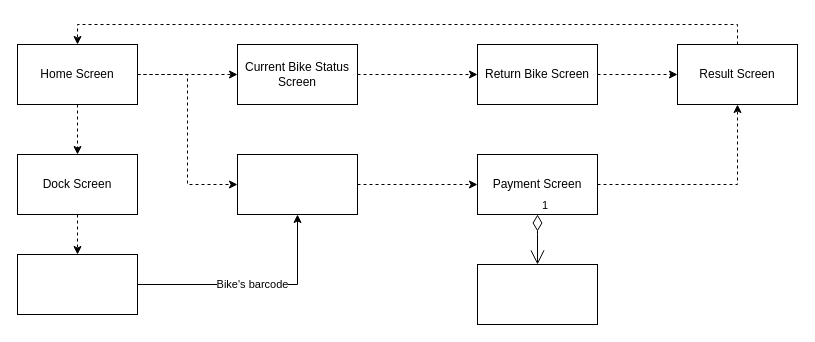
This 815x342 diagram has some shape labels left out. Here are the shapes that lost their labels. From the top down, the centre of each, then its label:
At (297,184): "Rent Bike Screen".
At (77,284): "Bike Screen".
At (537,294): "Error Screen".
